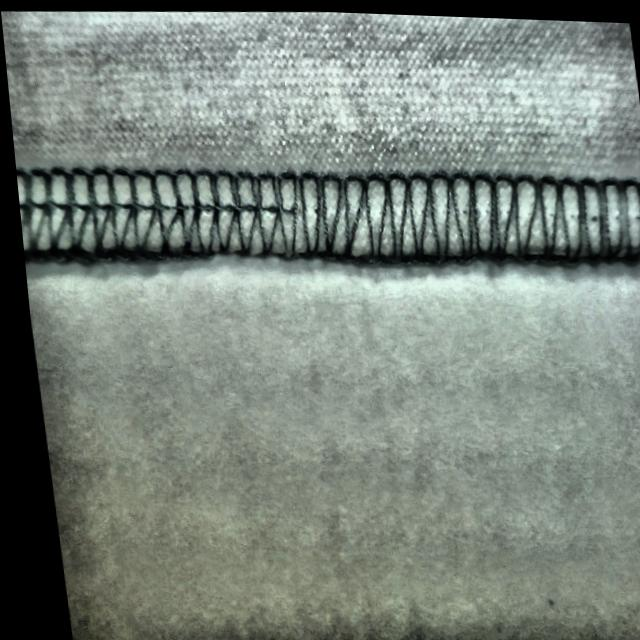Stitch: (51, 148, 488, 275)
